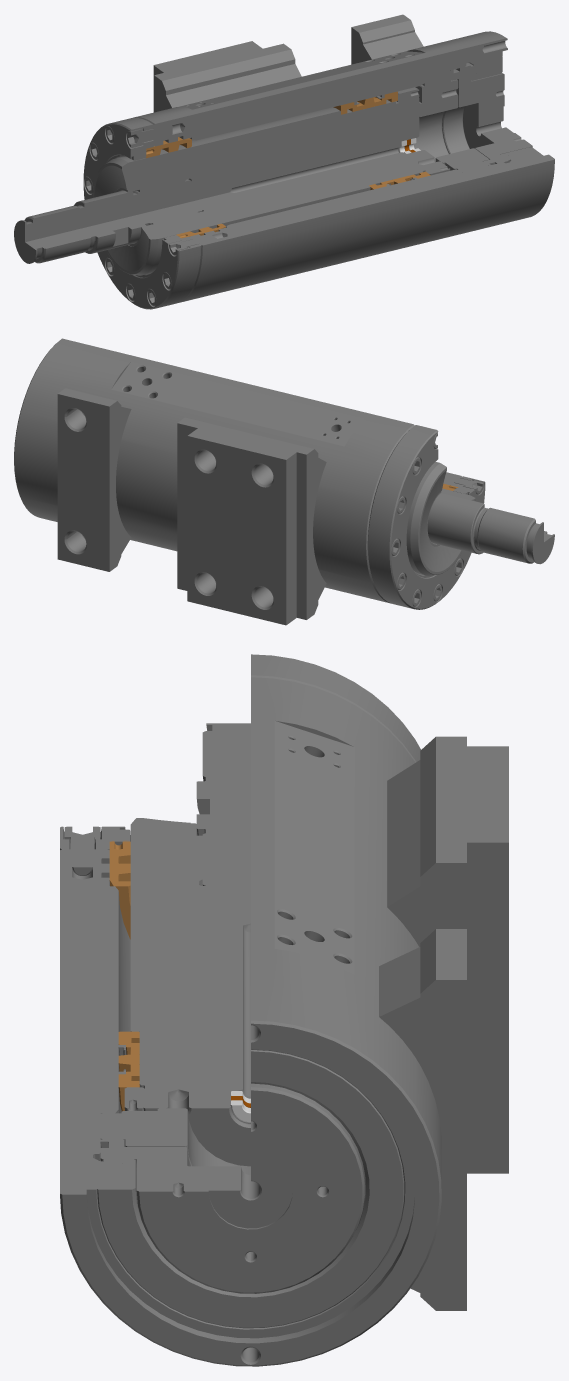
Rendered from Сборка_ГЦ_реф.glb.
3 views of the same model, one above another, from view 1: azimuth 30°, elevation 25°; view 2: azimuth 150°, elevation 25°; view 3: azimuth 270°, elevation 25° (orthographic). The views are drawn at different scales.
Parts seen in each view (by area): view 1: empty_8, empty_2, empty_41, empty_12, empty_6, empty_11, empty_14, empty_13, empty_40, empty_7, empty_38, empty_15; view 2: empty_8, empty_12, empty_13, empty_6, empty_41, empty_2; view 3: empty_8, empty_2, empty_11, empty_12, empty_40, empty_13, empty_41, empty_6, empty_14, empty_7, empty_20.
Part boxes in pixels (left/top/right/bottom): empty_8: left=133, top=31, right=554, bottom=302; empty_2: left=93, top=97, right=445, bottom=275; empty_41: left=14, top=179, right=202, bottom=263; empty_12: left=153, top=41, right=301, bottom=112; empty_6: left=83, top=117, right=201, bottom=309; empty_11: left=442, top=63, right=532, bottom=165; empty_14: left=414, top=70, right=489, bottom=171; empty_13: left=351, top=14, right=423, bottom=64; empty_40: left=468, top=55, right=540, bottom=161; empty_7: left=146, top=137, right=225, bottom=238; empty_38: left=127, top=125, right=172, bottom=147; empty_15: left=397, top=87, right=450, bottom=175; empty_8: left=14, top=338, right=461, bottom=603; empty_12: left=177, top=417, right=326, bottom=625; empty_13: left=57, top=388, right=131, bottom=571; empty_6: left=367, top=425, right=485, bottom=609; empty_41: left=427, top=493, right=554, bottom=564; empty_2: left=406, top=461, right=475, bottom=575; empty_8: left=60, top=677, right=441, bottom=1366; empty_2: left=130, top=818, right=250, bottom=1166; empty_11: left=100, top=1083, right=364, bottom=1293; empty_12: left=387, top=736, right=508, bottom=1173; empty_40: left=94, top=1050, right=404, bottom=1328; empty_13: left=379, top=929, right=466, bottom=1310; empty_41: left=196, top=723, right=250, bottom=885; empty_6: left=60, top=654, right=420, bottom=849; empty_14: left=100, top=1108, right=250, bottom=1174; empty_7: left=109, top=840, right=130, bottom=939; empty_20: left=64, top=826, right=100, bottom=875.
Bounding box in the file's own units: 928 × 318 × 374.
